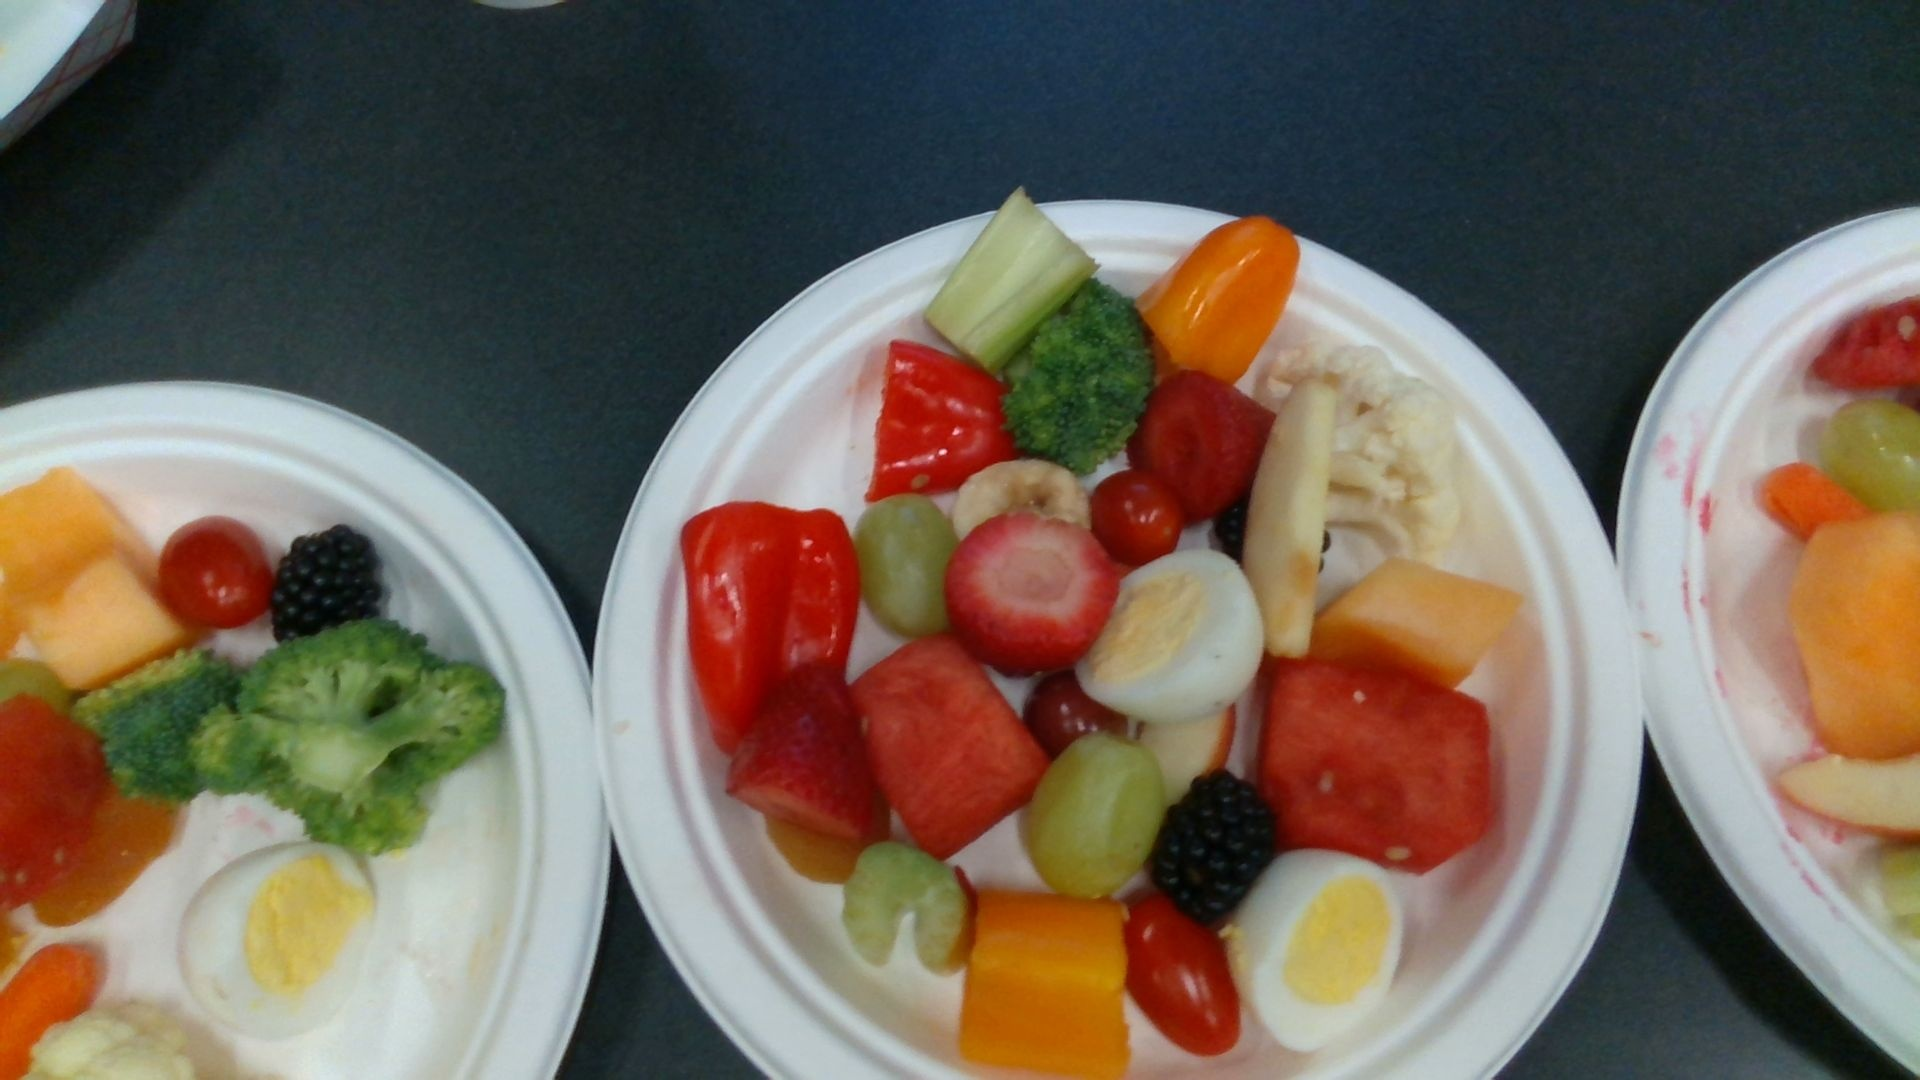apple: (1240, 382, 1335, 658), (1782, 756, 1920, 831)
apricot: (30, 781, 174, 928)
banana: (955, 462, 1089, 541)
bell_pepper: (676, 506, 857, 742), (963, 886, 1130, 1069), (1145, 216, 1300, 373), (870, 340, 1014, 500)
blackberry: (1149, 773, 1269, 923), (277, 530, 385, 644)
broccoli: (189, 620, 505, 848), (1002, 285, 1149, 465), (75, 650, 244, 800)
cantalope: (1, 465, 185, 684), (1789, 516, 1920, 752), (1317, 564, 1519, 684)
carrot: (1, 943, 92, 1080), (1762, 465, 1873, 538)
cauliflower: (1270, 335, 1458, 564)
celery: (924, 186, 1098, 363), (845, 845, 969, 971)
cherry_tomato: (1122, 903, 1240, 1058), (160, 518, 270, 636), (1097, 469, 1178, 558)
egg: (177, 841, 377, 1038), (1234, 851, 1404, 1048), (1085, 550, 1267, 717)
grape_green: (1029, 738, 1164, 890), (855, 495, 953, 636), (1826, 400, 1920, 506)
melon: (1265, 655, 1491, 873), (852, 636, 1047, 851), (1815, 295, 1920, 394)
strawberry: (727, 665, 889, 845), (944, 512, 1106, 678), (1134, 375, 1274, 524)
